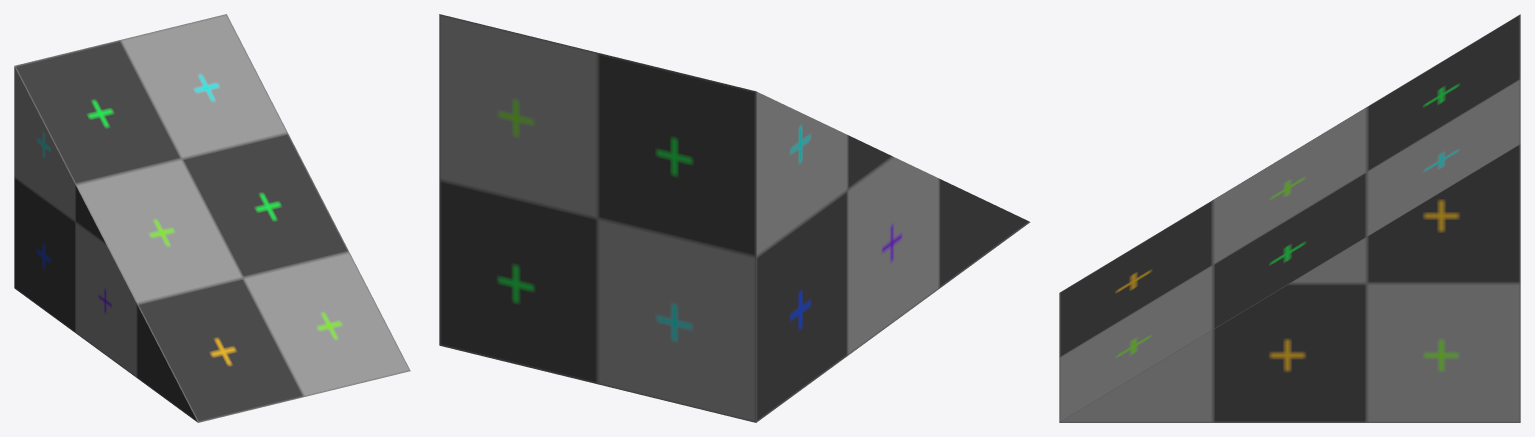
The model's file is Modular Slope Medium.glb.
3 renders of one model, left to right at view 1: azimuth 30°, elevation 25°; view 2: azimuth 150°, elevation 25°; view 3: azimuth 270°, elevation 25°, orthographic. The views are drawn at different scales.
Visible parts, largest first — view 1: Modular 2x3x2 Slope; view 2: Modular 2x3x2 Slope; view 3: Modular 2x3x2 Slope.
Boxes of the visible parts, <box> form: Modular 2x3x2 Slope: <box>14,14,410,422</box>; Modular 2x3x2 Slope: <box>439,14,1030,422</box>; Modular 2x3x2 Slope: <box>1059,14,1520,422</box>.
Size of the model in its own units: 2 by 2 by 3.
Materials: 1 (1 with a texture image).
